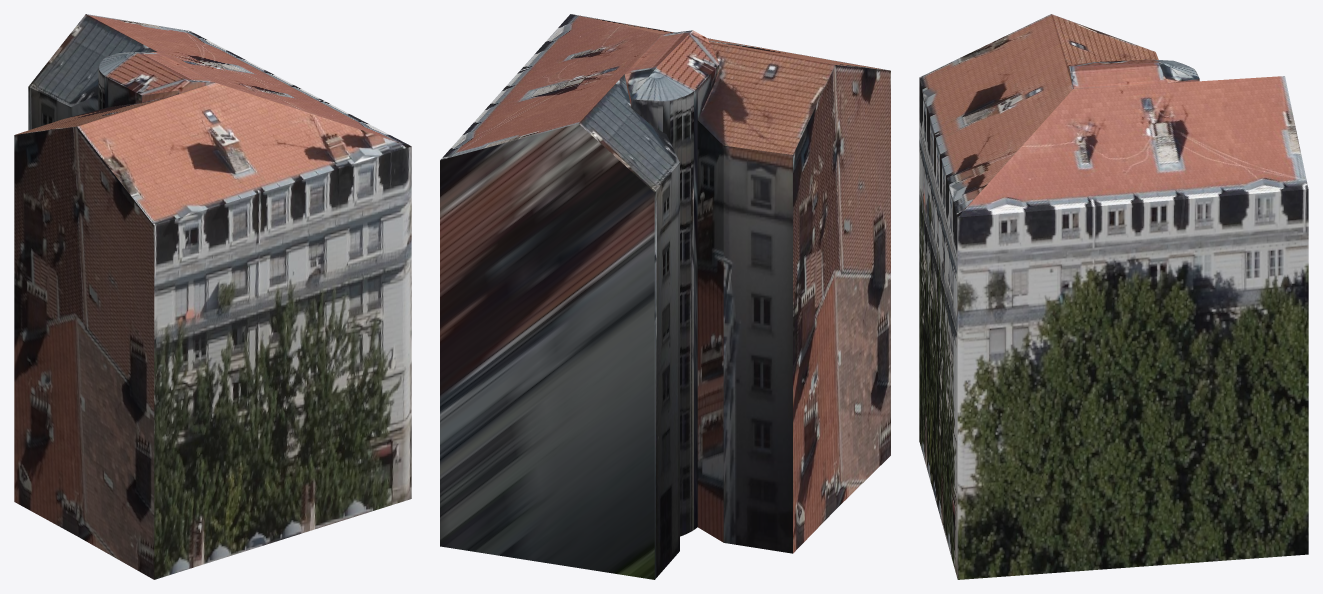
3 views of the same model, side by side, from view 1: azimuth 30°, elevation 25°; view 2: azimuth 150°, elevation 25°; view 3: azimuth 270°, elevation 25° (orthographic). The views are drawn at different scales.
Visible parts, largest first — view 1: Z_UP; view 2: Z_UP; view 3: Z_UP.
Boxes of the visible parts, box(x1,y1,x2,y2) form: Z_UP: box(14, 14, 411, 579); Z_UP: box(440, 14, 890, 579); Z_UP: box(919, 14, 1308, 579).
Bounding box in the file's own units: 20.63 × 27.38 × 22.48.
Materials: 2 (1 with a texture image).
